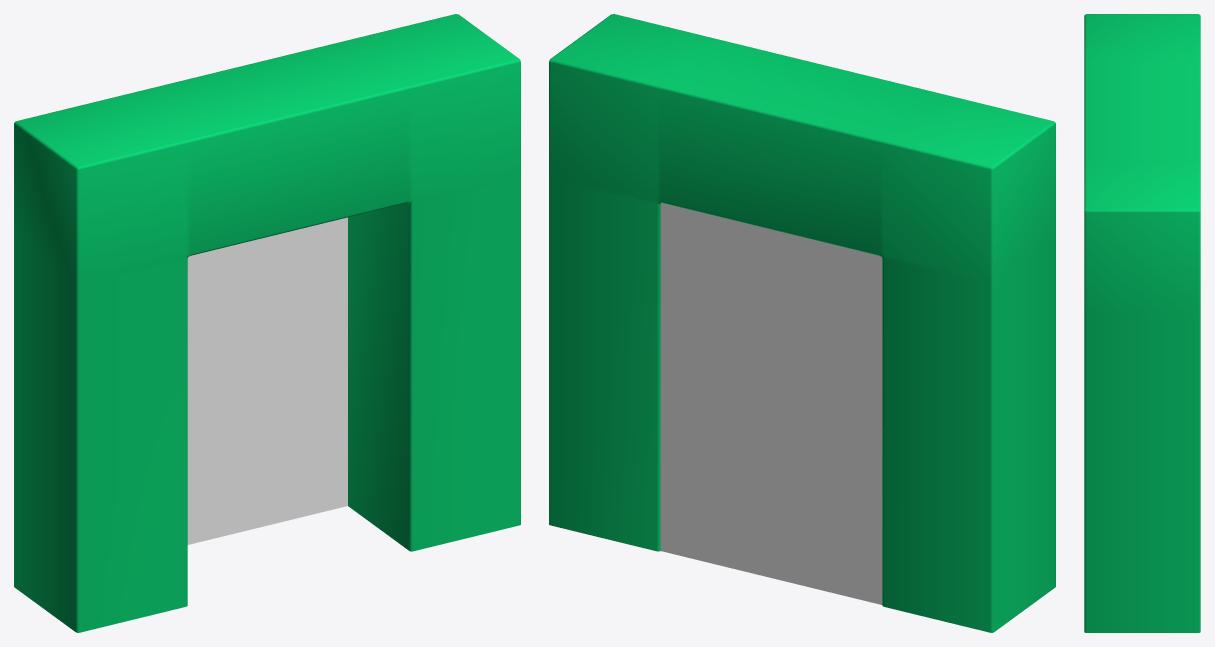
Rendered from PictoManExit.fbx.
3 views of the same model, side by side, from view 1: azimuth 30°, elevation 25°; view 2: azimuth 150°, elevation 25°; view 3: azimuth 270°, elevation 25° (orthographic). The views are drawn at different scales.
Parts seen in each view (by area): view 1: Exit; view 2: Exit; view 3: Exit.
Boxes of the visible parts, x1=… form: Exit: x1=14, y1=14, x2=520, y2=632; Exit: x1=549, y1=14, x2=1055, y2=632; Exit: x1=1084, y1=14, x2=1200, y2=632.
Bounding box in the file's own units: 200 × 200 × 50.
1 material, 1 textured.
